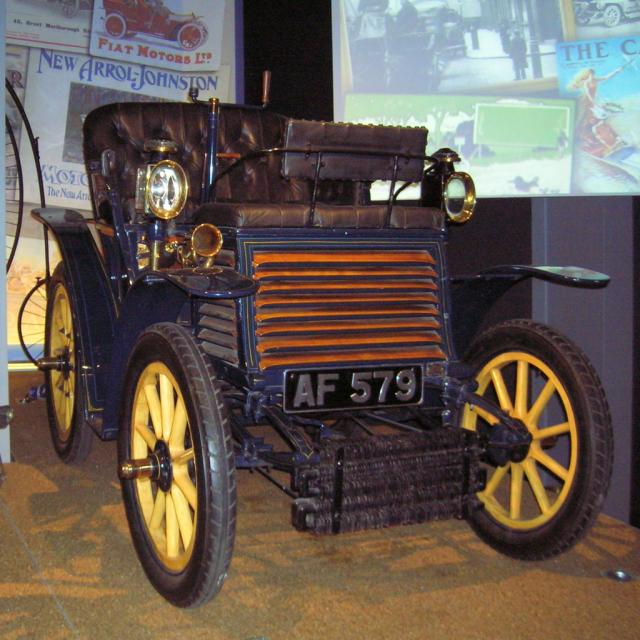other: (34, 74, 635, 619)
